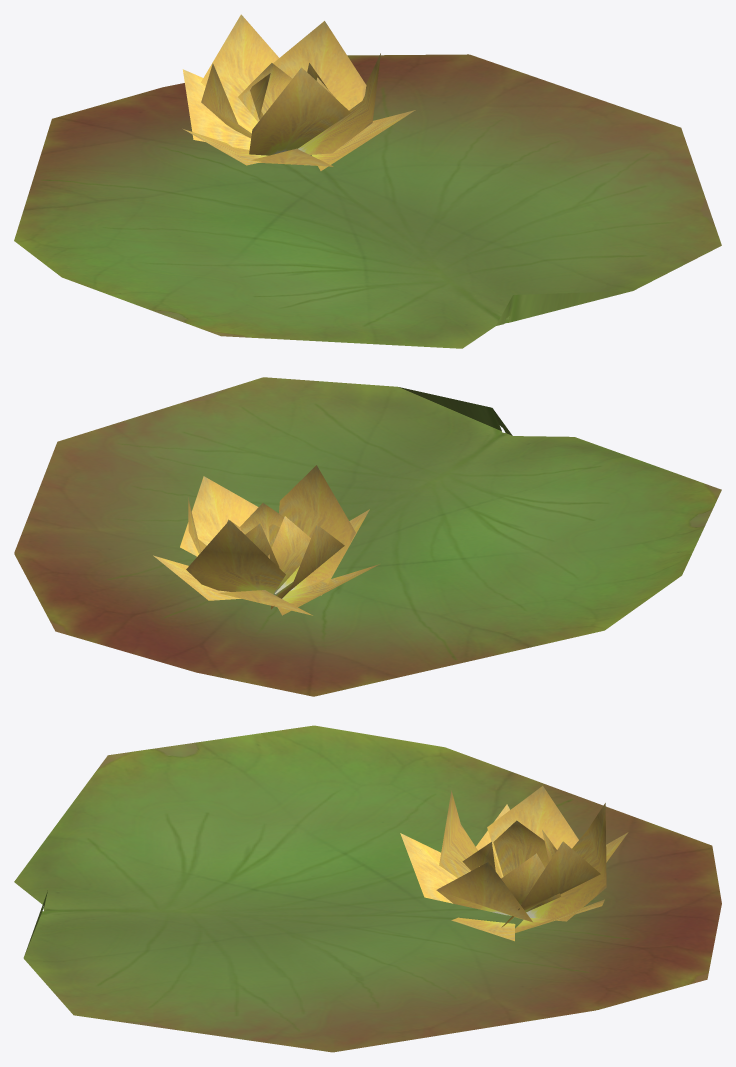
Rendered from lillypad1_6_1_lod2.fbx.
The picture shows the model from 3 angles, top to bottom: view 1: azimuth 30°, elevation 25°; view 2: azimuth 150°, elevation 25°; view 3: azimuth 270°, elevation 25°; orthographic projection. The views are drawn at different scales.
Visible parts, largest first — view 1: Mesh Object; view 2: Mesh Object; view 3: Mesh Object.
Part boxes in pixels (left/top/right/bottom): Mesh Object: left=14, top=14, right=721, bottom=348; Mesh Object: left=14, top=377, right=721, bottom=696; Mesh Object: left=14, top=725, right=721, bottom=1052.
Size of the model in its own units: 1.37 by 0.2419 by 1.3.
